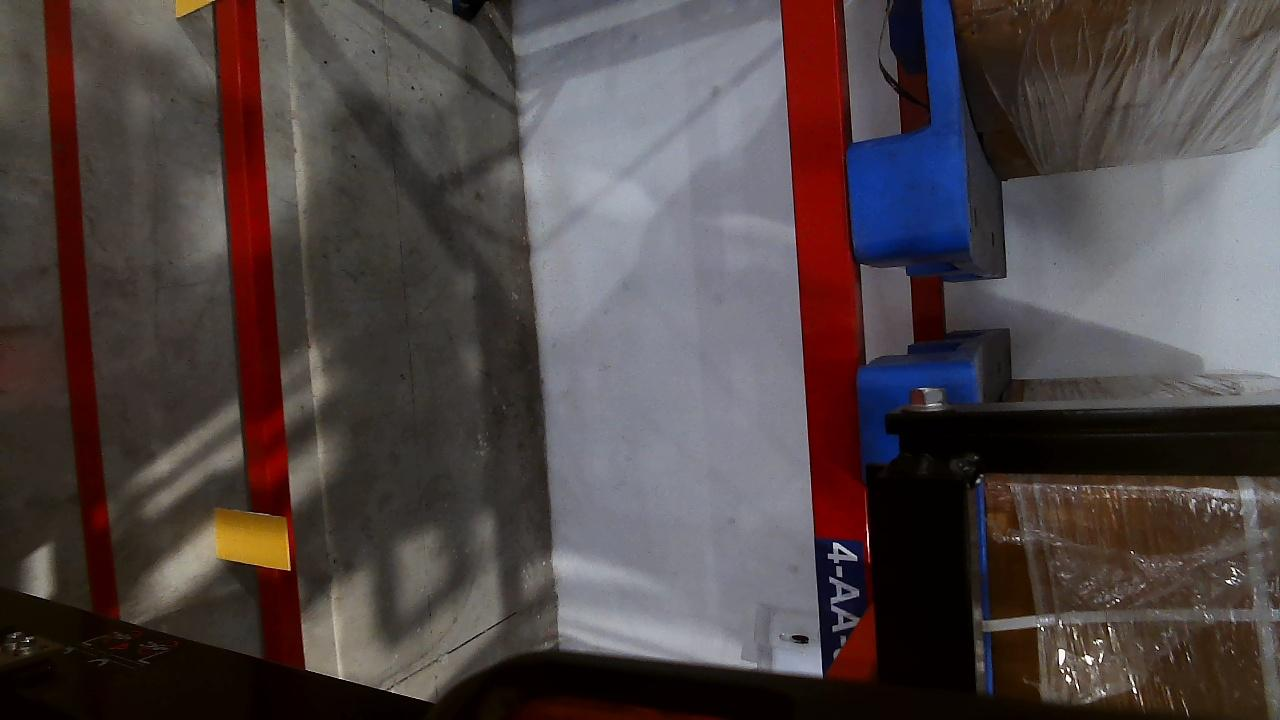h_rack: (779, 1, 867, 673), (218, 1, 304, 668)
orange_strip: (213, 507, 291, 570), (175, 0, 212, 18)
red_line: (38, 0, 115, 612)
small_pallet: (833, 1, 977, 250)
